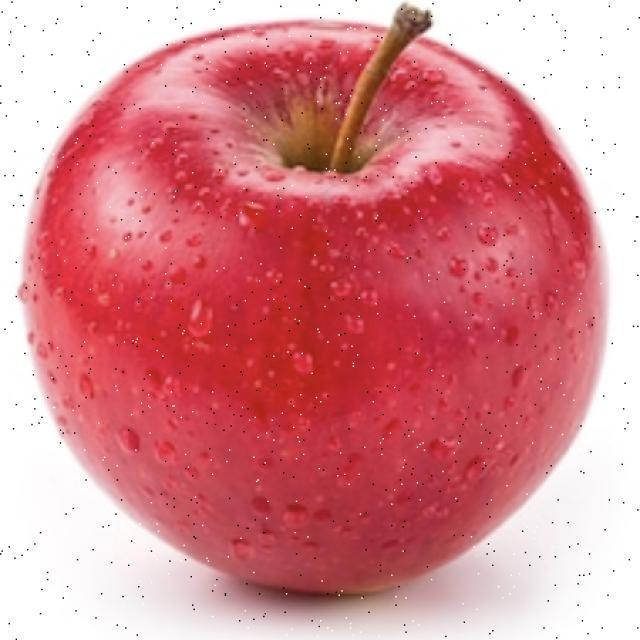Fresh Apple: (28, 18, 622, 595)
